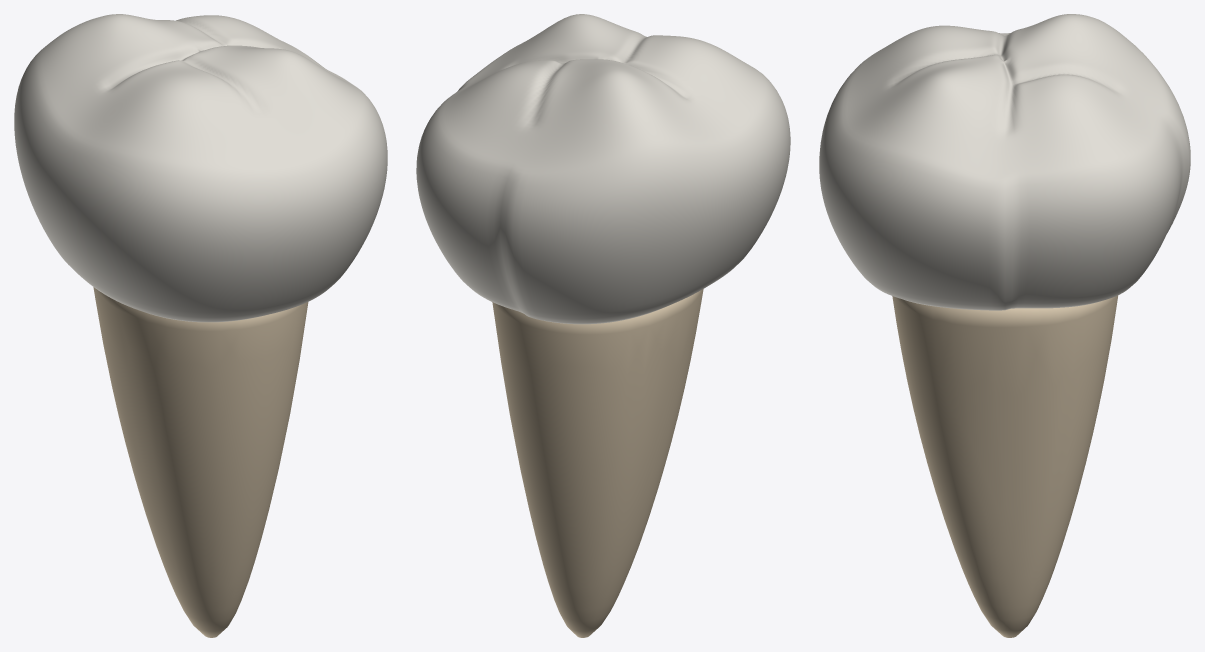
Rendered from molar_sup.glb.
The picture shows the model from 3 angles, left to right: view 1: azimuth 30°, elevation 25°; view 2: azimuth 150°, elevation 25°; view 3: azimuth 270°, elevation 25°; orthographic projection. The views are drawn at different scales.
Parts seen in each view (by area): view 1: Corona, Raices; view 2: Corona, Raices; view 3: Corona, Raices.
Boxes of the visible parts, x1,y1,x2,y2 form: Corona: (14, 14, 387, 322); Raices: (93, 287, 308, 637); Corona: (416, 14, 790, 324); Raices: (492, 289, 703, 637); Corona: (819, 14, 1190, 310); Raices: (892, 295, 1118, 637).
Bounding box in the file's own units: 0.0111 × 0.0209 × 0.0119.
